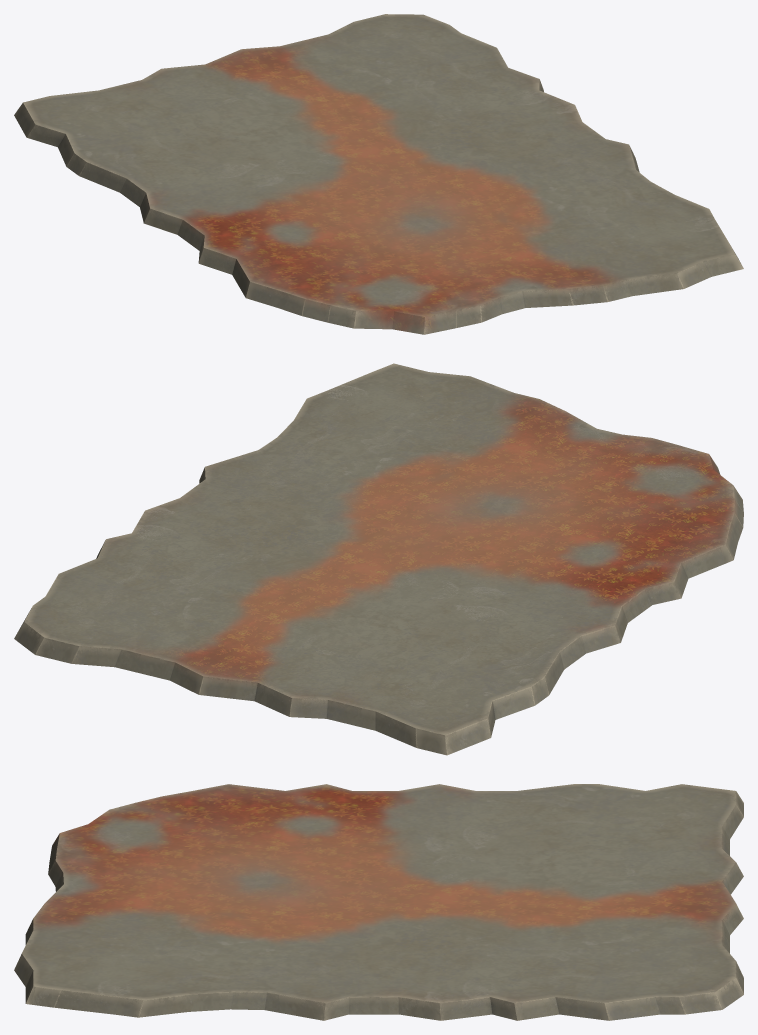
Rendered from Levelplatform.fbx.
The picture shows the model from 3 angles, top to bottom: view 1: azimuth 30°, elevation 25°; view 2: azimuth 150°, elevation 25°; view 3: azimuth 270°, elevation 25°; orthographic projection. The views are drawn at different scales.
Visible parts, largest first — view 1: PLatform; view 2: PLatform; view 3: PLatform.
Part boxes in pixels (box(x1,y1,x2,y2)): PLatform: box(14, 14, 743, 334); PLatform: box(14, 363, 743, 755); PLatform: box(14, 784, 743, 1020).
Size of the model in its own units: 324 by 10 by 445.
Materials: 1 (1 with a texture image).
